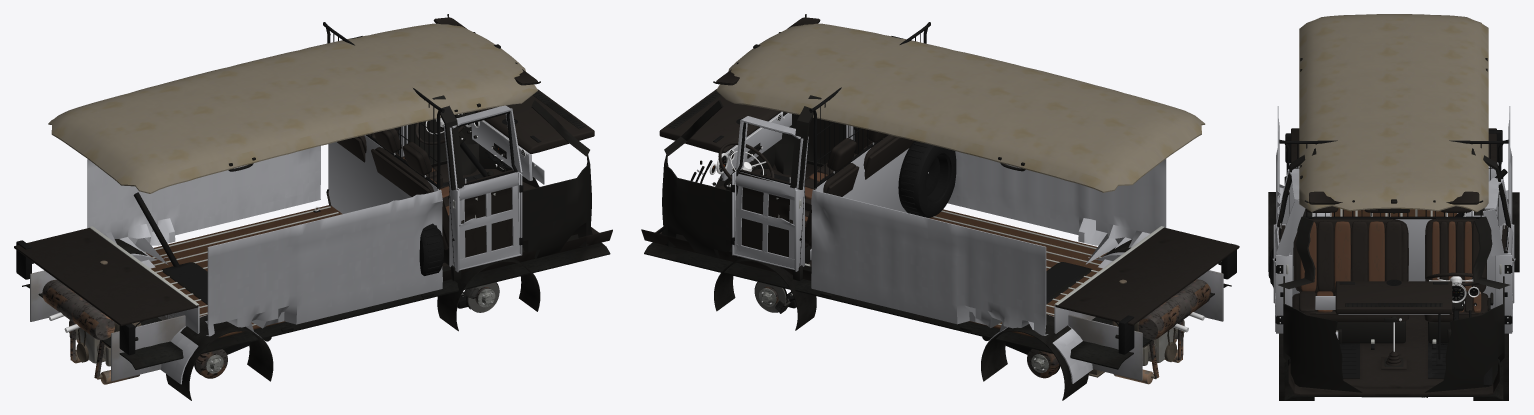
The model's file is pao-de-forma_completo.glb.
3 views of the same model, side by side, from view 1: azimuth 30°, elevation 25°; view 2: azimuth 150°, elevation 25°; view 3: azimuth 270°, elevation 25° (orthographic). The views are drawn at different scales.
Visible parts, largest first — view 1: interior_carga, interior_forro_teto, under_assoalho, interior_divisoria, interior_painel, interior_acabamento_pe_dir, door_card_fr_chapa, interior_banco_dianteiro_dir, engine_vao_traseiro, under_escapamento, door_card_fr, under_caixa_roda_rr (+11 smaller); view 2: interior_carga, interior_forro_teto, under_assoalho, interior_painel, interior_acabamento_pe_esq, interior_portamalas_estepe, interior_divisoria, door_card_fl_chapa, engine_vao_traseiro, under_escapamento, door_card_fl, interior_acabamento_pe_dir (+11 smaller); view 3: interior_forro_teto, interior_banco_dianteiro_dir, interior_carpete, interior_painel, interior_banco_dianteiro_esq, interior_acabamento_pe_dir, interior_acabamento_pe_esq, interior_divisoria, interior_acabamento_colunas, interior_carga, jamb_fr_colunas, jamb_fl_colunas (+13 smaller).
Boxes of the visible parts, x1=… form: interior_carga: x1=14, y1=146, x2=442, y2=384; interior_forro_teto: x1=48, y1=23, x2=537, y2=193; under_assoalho: x1=22, y1=242, x2=610, y2=369; interior_divisoria: x1=323, y1=22, x2=444, y2=213; interior_painel: x1=461, y1=89, x2=594, y2=184; interior_acabamento_pe_dir: x1=522, y1=155, x2=592, y2=258; door_card_fr_chapa: x1=457, y1=170, x2=520, y2=270; interior_banco_dianteiro_dir: x1=371, y1=128, x2=449, y2=265; engine_vao_traseiro: x1=30, y1=270, x2=185, y2=381; under_escapamento: x1=42, y1=279, x2=114, y2=378; door_card_fr: x1=461, y1=169, x2=514, y2=257; under_caixa_roda_rr: x1=166, y1=315, x2=273, y2=400; interior_carga: x1=811, y1=151, x2=1239, y2=383; interior_forro_teto: x1=716, y1=23, x2=1205, y2=192; under_assoalho: x1=644, y1=242, x2=1231, y2=369; interior_painel: x1=659, y1=89, x2=791, y2=185; interior_acabamento_pe_esq: x1=661, y1=154, x2=731, y2=258; interior_portamalas_estepe: x1=898, y1=141, x2=956, y2=217; interior_divisoria: x1=809, y1=22, x2=930, y2=212; door_card_fl_chapa: x1=733, y1=171, x2=796, y2=270; engine_vao_traseiro: x1=1068, y1=270, x2=1223, y2=380; under_escapamento: x1=1138, y1=279, x2=1211, y2=378; door_card_fl: x1=738, y1=169, x2=792, y2=257; interior_acabamento_pe_dir: x1=715, y1=112, x2=845, y2=187; interior_forro_teto: x1=1299, y1=14, x2=1488, y2=212; interior_banco_dianteiro_dir: x1=1292, y1=206, x2=1409, y2=349; interior_carpete: x1=1288, y1=314, x2=1499, y2=395; interior_painel: x1=1315, y1=279, x2=1479, y2=322; interior_banco_dianteiro_esq: x1=1424, y1=206, x2=1493, y2=348; interior_acabamento_pe_dir: x1=1283, y1=276, x2=1362, y2=392; interior_acabamento_pe_esq: x1=1425, y1=276, x2=1504, y2=392; interior_divisoria: x1=1279, y1=139, x2=1508, y2=308; interior_acabamento_colunas: x1=1277, y1=148, x2=1510, y2=289; interior_carga: x1=1276, y1=106, x2=1512, y2=224; jamb_fr_colunas: x1=1273, y1=168, x2=1305, y2=333; jamb_fl_colunas: x1=1483, y1=177, x2=1514, y2=333.
Size of what is drawn, in the model's own units: 4.41 by 1.98 by 1.97.
44 materials, 44 textured.
